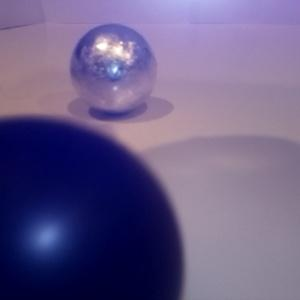alive_ball: (70, 24, 159, 114)
dead_ball: (1, 115, 184, 300)
